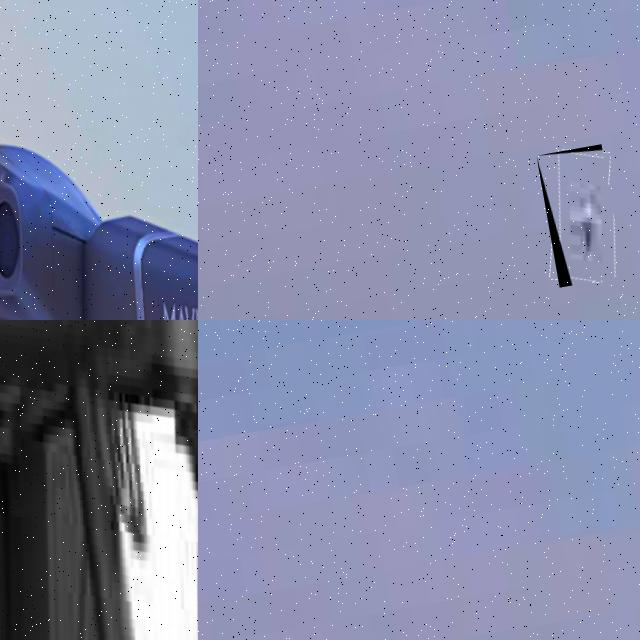drone: (0, 0, 198, 320), (0, 320, 198, 640), (536, 144, 624, 287)
